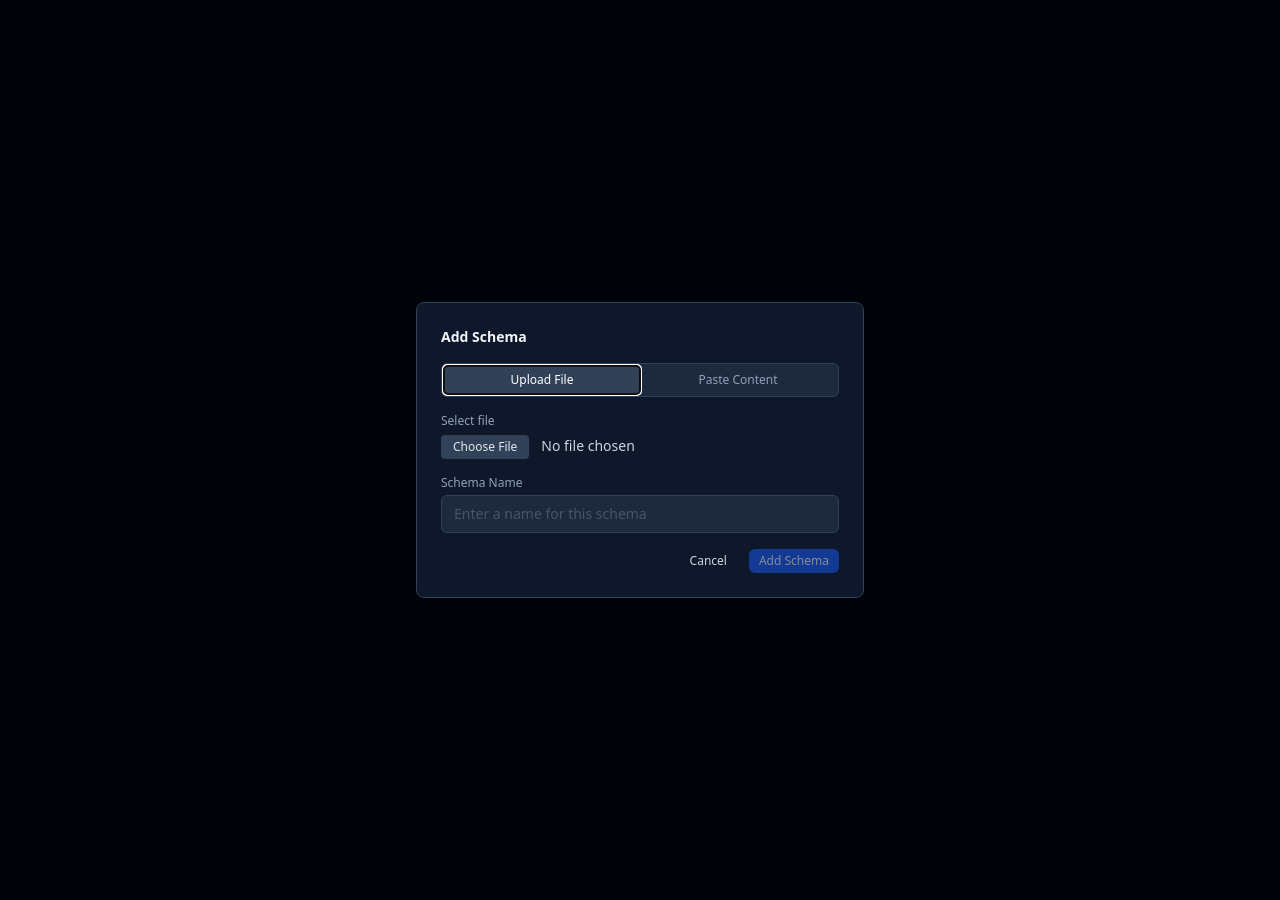
Scenario: SchemaUploadDialog — paste mode › AE-03: pasting invalid content shows error and disables Add Schema button
Click the tab with test id "mode-tab-paste": (738, 380) x1=640 y1=366 x2=836 y2=394
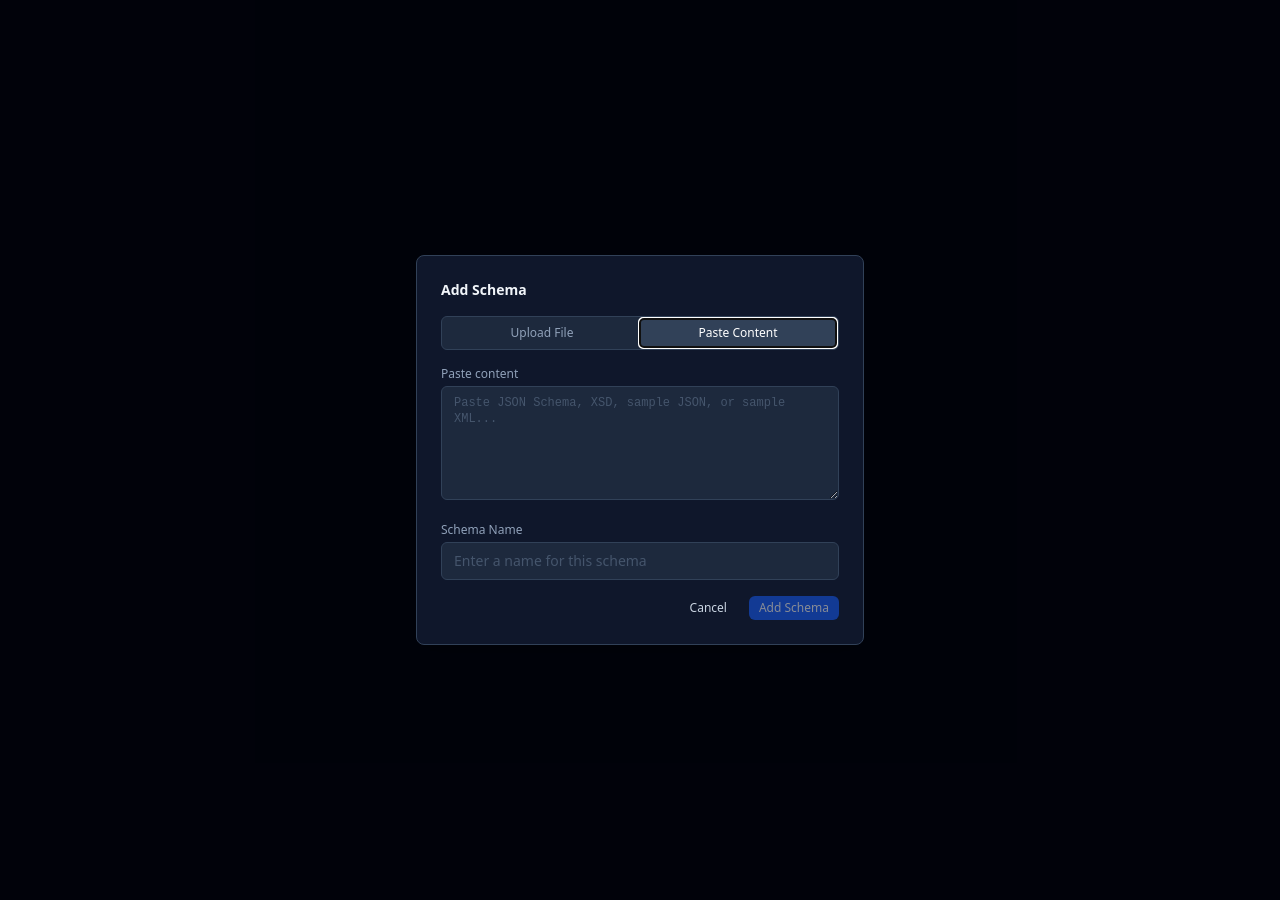
In the text box with test id "paste-input": (640, 443) x1=441 y1=386 x2=839 y2=500, type "this is not json"
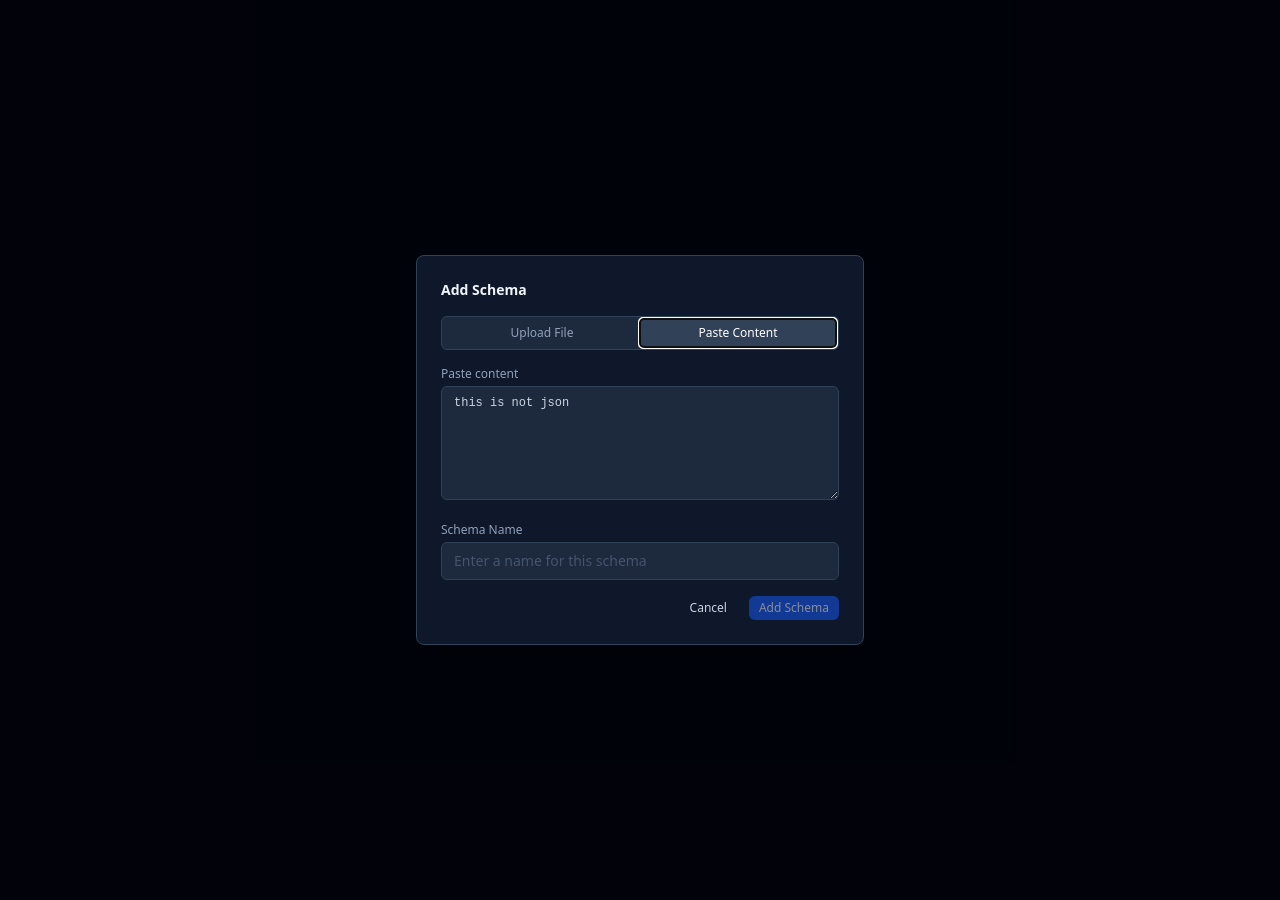
Leave the text box with test id "paste-input", box x1=441 y1=386 x2=839 y2=500
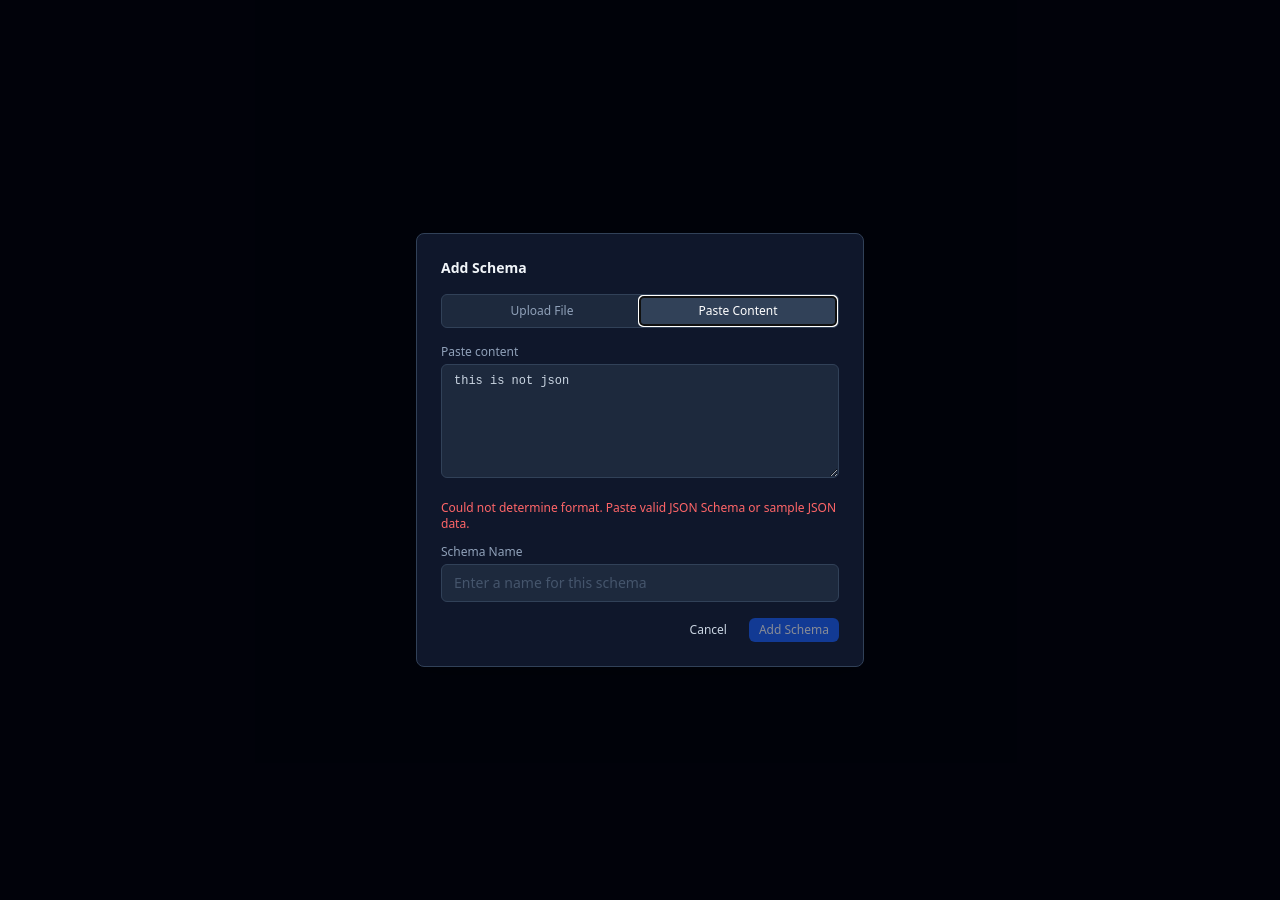
expect the button with test id "upload-button" is disabled: met, box x1=749 y1=618 x2=839 y2=642
expect the message "Could not determine format. Paste valid JSON Schema or sample JSON data." is shown: met, box x1=441 y1=500 x2=839 y2=532
expect the message with test id "paste-error" shows "Could not determine format": met, box x1=441 y1=499 x2=836 y2=532
